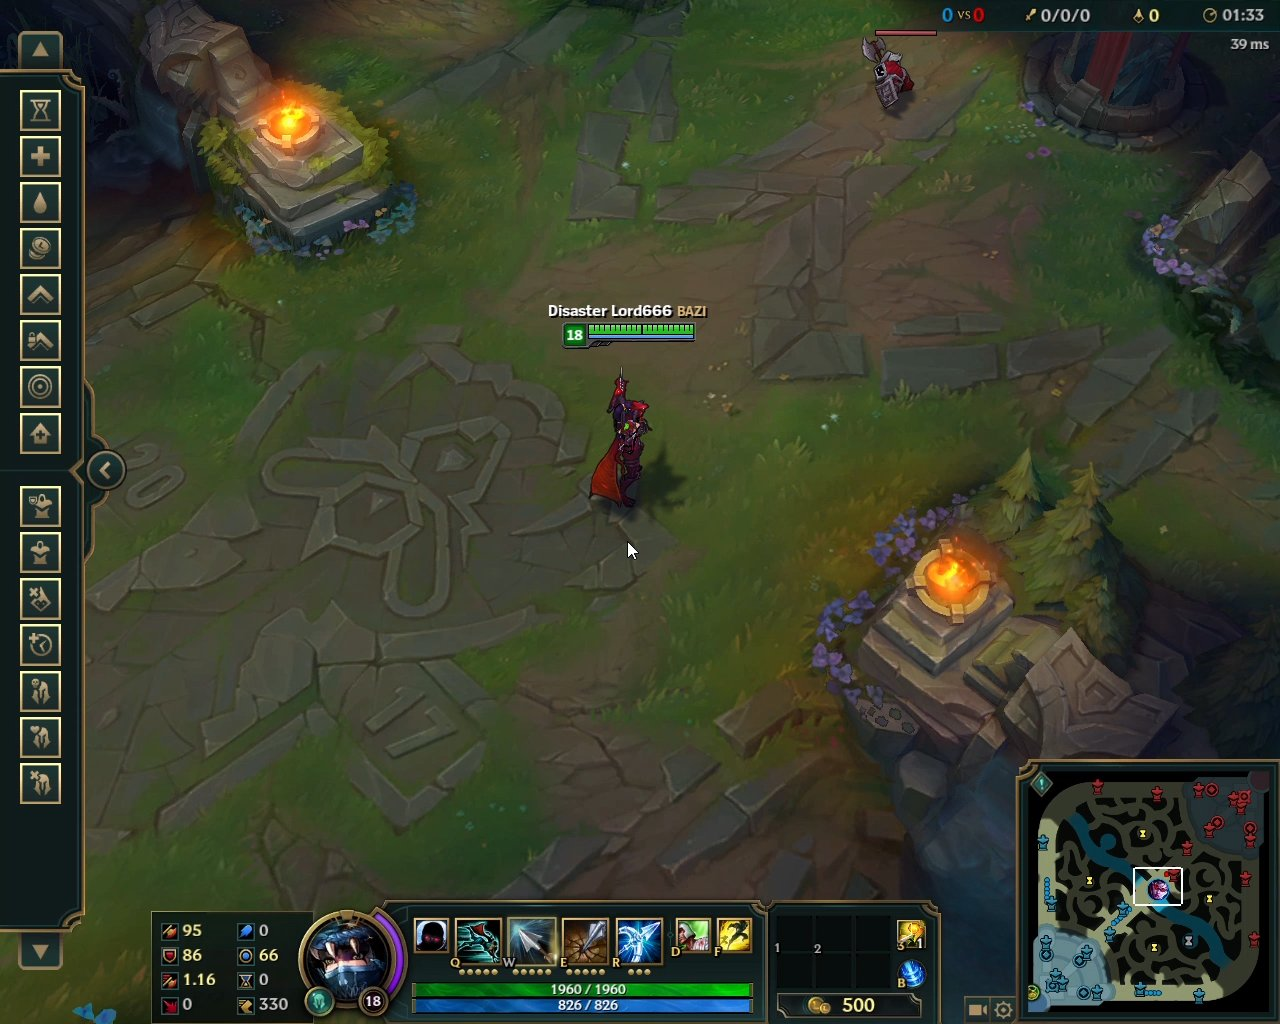EnemyMinion: (856, 28, 940, 115)
Vayne: (587, 366, 662, 517)
